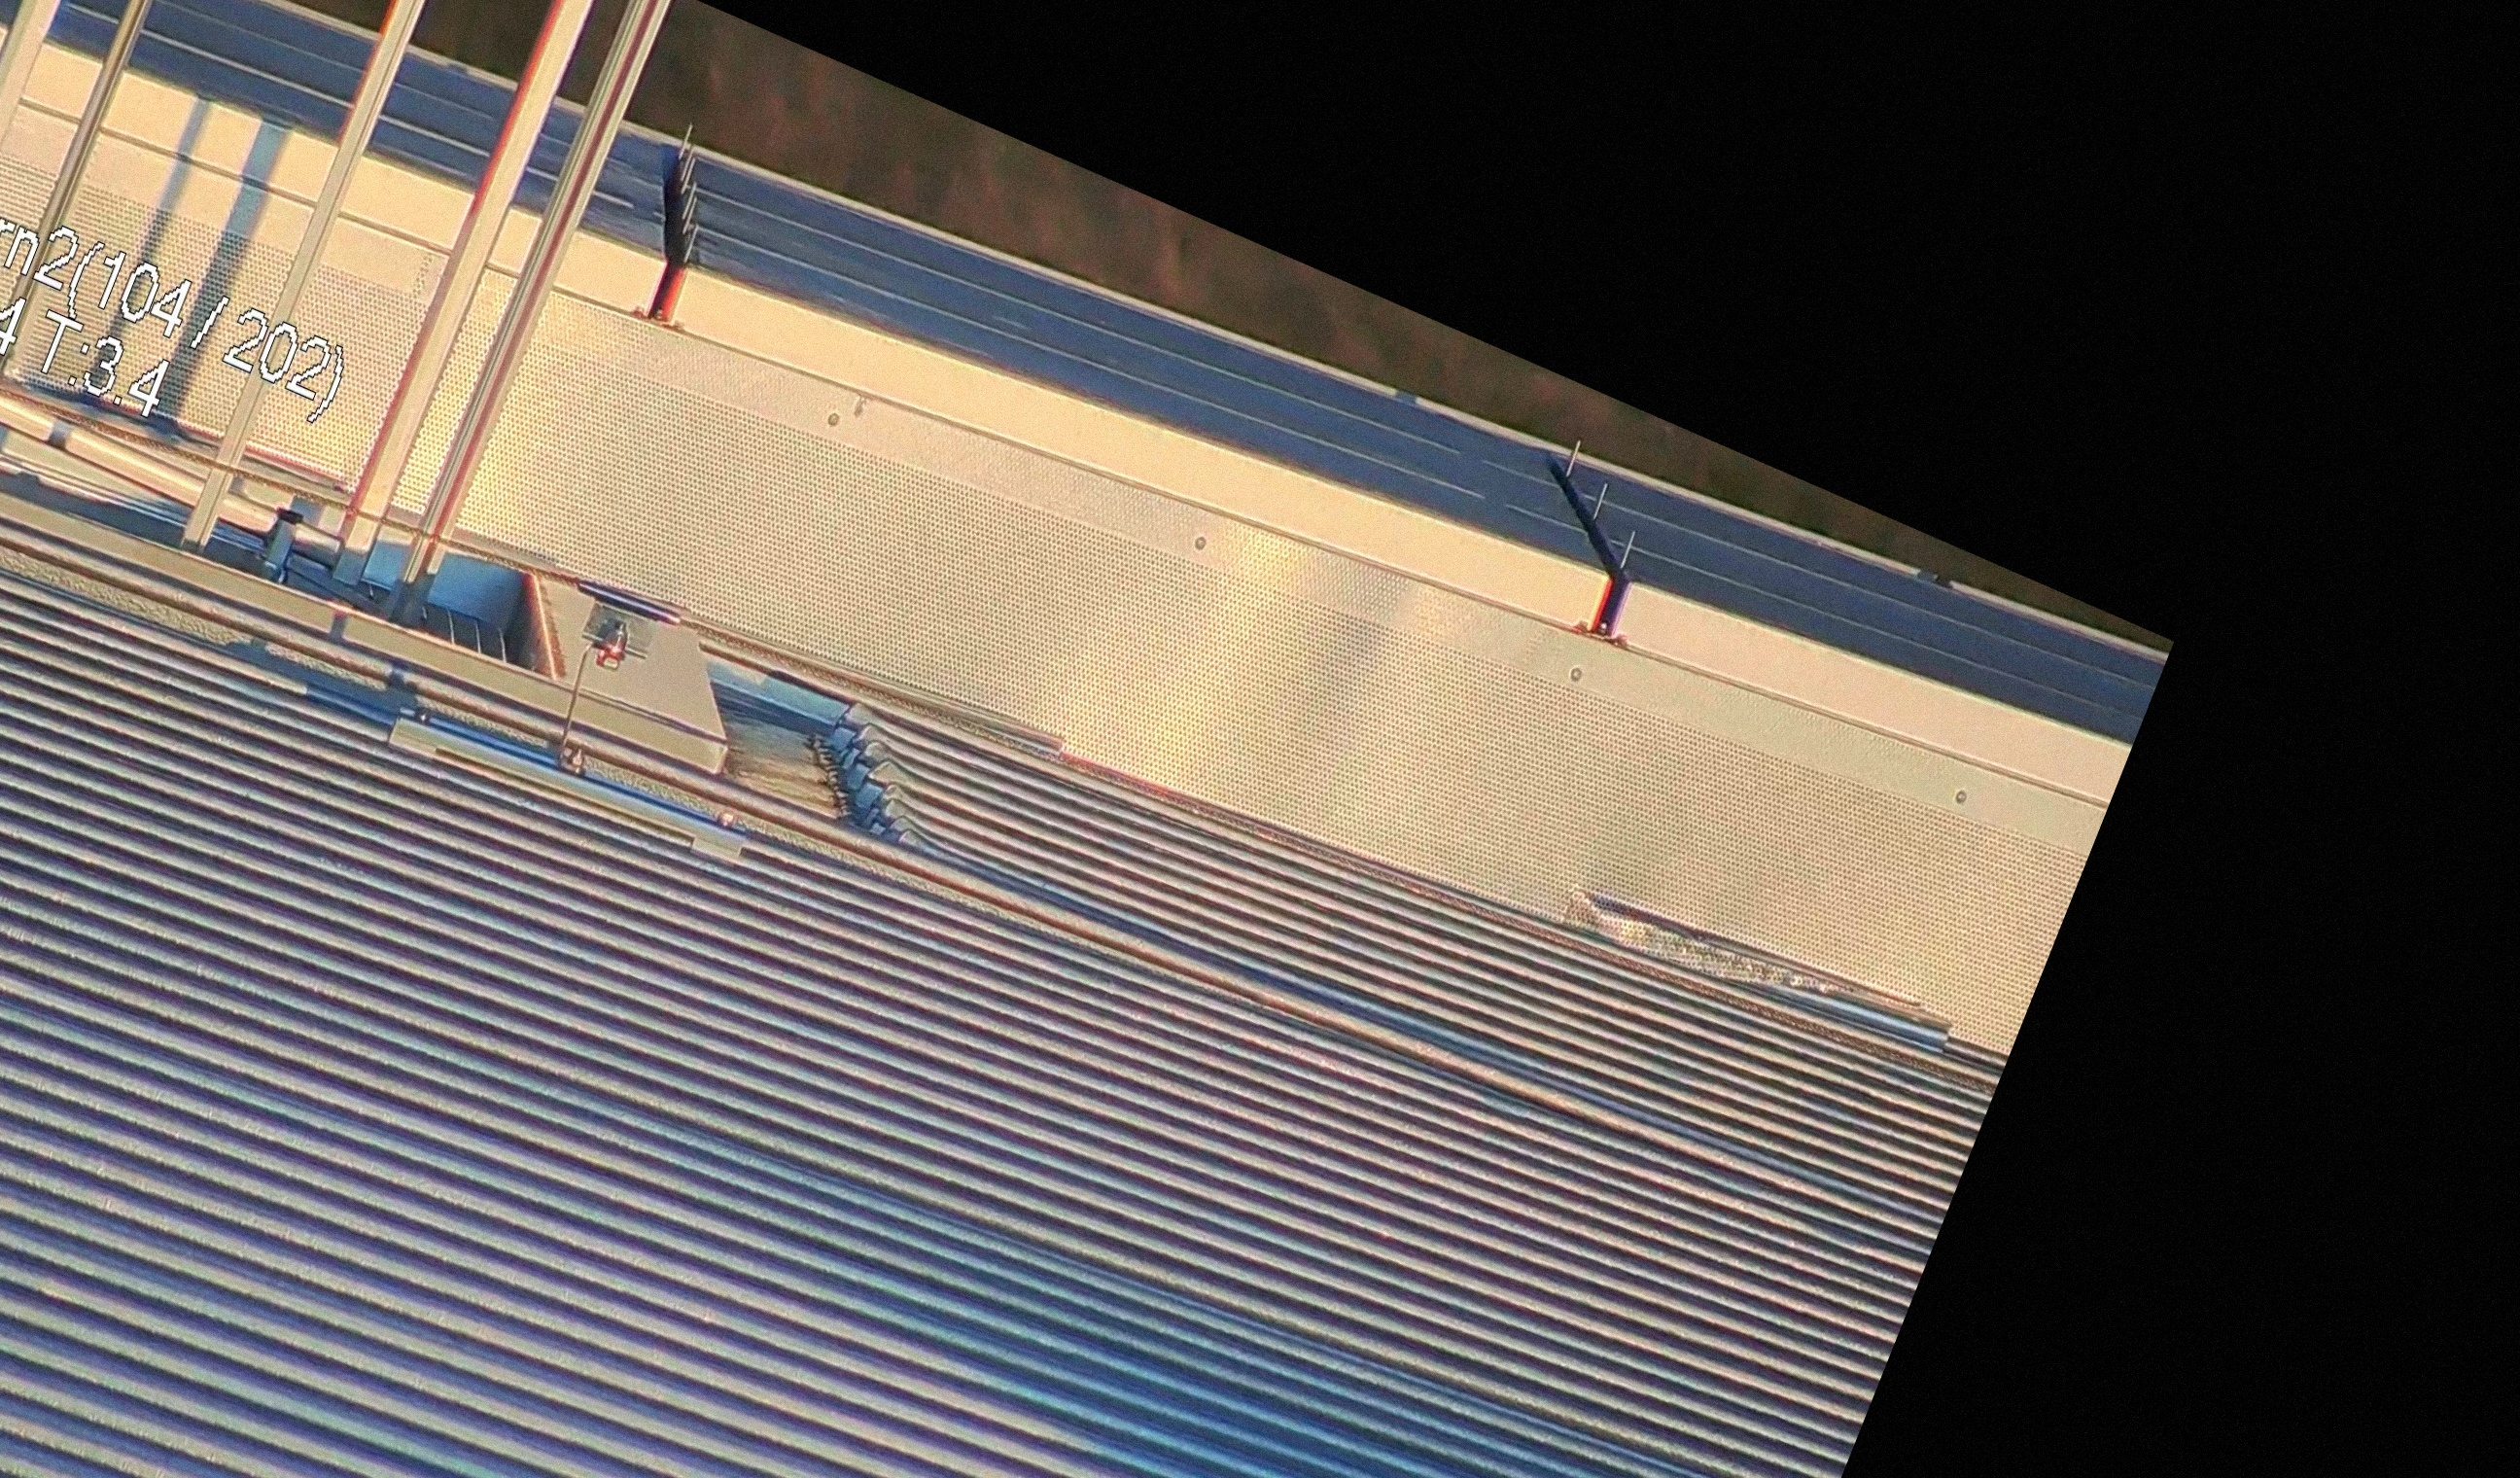Other: (594, 120, 747, 340)
